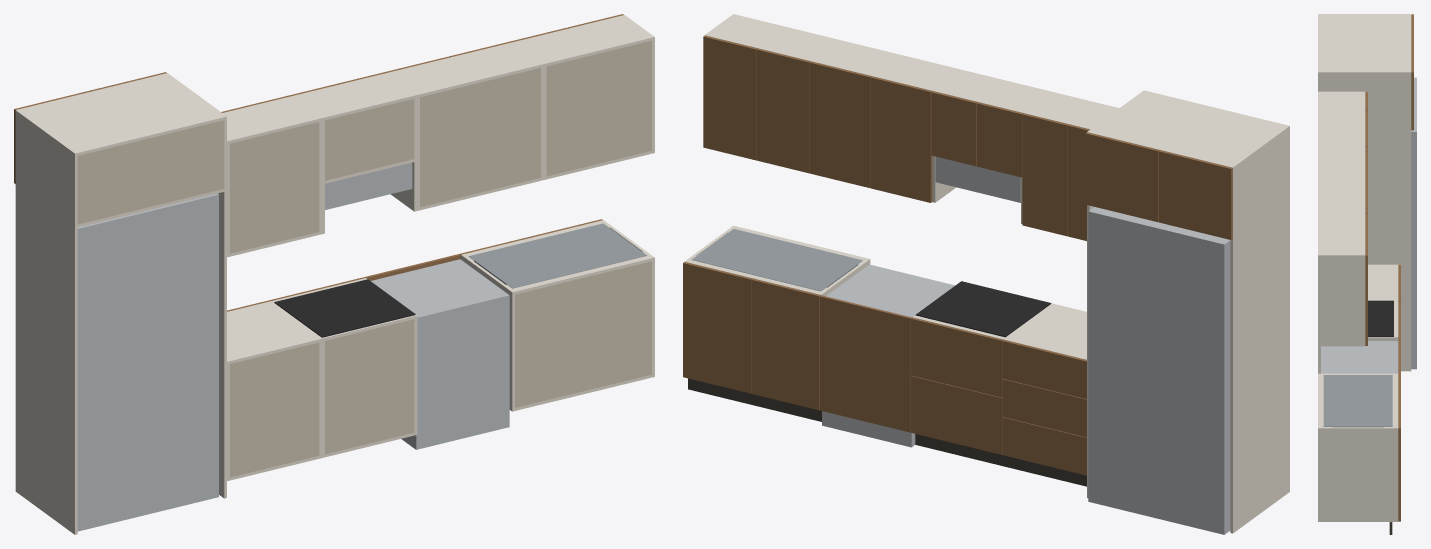
Rendered from 더빌드탑_샘플_주방_2026-11-24.dae.
The picture shows the model from 3 angles, left to right: view 1: azimuth 30°, elevation 25°; view 2: azimuth 150°, elevation 25°; view 3: azimuth 270°, elevation 25°; orthographic projection. The views are drawn at different scales.
Parts seen in each view (by area): view 1: 냉장고장_냉장고(참고)_0x0, 냉장고장_측판(좌)_2300x650, 식기세척기 자리_식기세척기(참고)_0x0, 싱크장_뒷판_864x684, 상부장 C_뒷판_764x664, 상부장 D_뒷판_664x664, 서랍장 A_뒷판_684x564, 인덕션장 3구_뒷판_684x564, 냉장고장_뒷판_924x414, 상부장 B_뒷판_664x564, 냉장고장_천판_924x650, 싱크장_씽크볼(참고)_0x0 (+12 smaller); view 2: 냉장고장_냉장고(참고)_0x0, 냉장고장_측판(좌)_2300x650, 인덕션장 3구_서랍앞판_597x357 (×2), 식기세척기 자리_식기세척기 도어판_717x597, 서랍장 A_서랍앞판_597x237 (×3), 싱크장_문(2)_717x447, 싱크장_문(1)_717x447, 냉장고장_천판_924x650, 상부장 C_문(1)_697x397, 상부장 C_문(2)_697x397, 상부장 D_문(1)_697x347, 상부장 D_문(2)_697x347 (+19 smaller); view 3: 냉장고장_측판(우)_2300x650, 싱크장_측판(우)_720x560, 냉장고장_천판_924x650, 상부장 D_측판(우)_700x330, 싱크장_씽크볼(참고)_0x0, 식기세척기 자리_식기세척기(참고)_0x0, 상부장 C_천판_764x330, 상부장 D_천판_664x330, 상부장 B_천판_564x330, 후드장_천판_564x330, 냉장고장_냉장고(참고)_0x0, 서랍장 A_천판_564x560 (+9 smaller).
Part boxes in pixels (left/top/right/bottom): 냉장고장_냉장고(참고)_0x0: left=77, top=193, right=218, bottom=531; 냉장고장_측판(좌)_2300x650: left=15, top=109, right=77, bottom=534; 식기세척기 자리_식기세척기(참고)_0x0: left=371, top=259, right=509, bottom=449; 싱크장_뒷판_864x684: left=515, top=261, right=651, bottom=407; 상부장 C_뒷판_764x664: left=420, top=68, right=540, bottom=207; 상부장 D_뒷판_664x664: left=546, top=40, right=651, bottom=176; 서랍장 A_뒷판_684x564: left=230, top=342, right=319, bottom=477; 인덕션장 3구_뒷판_684x564: left=325, top=319, right=414, bottom=454; 냉장고장_뒷판_924x414: left=77, top=120, right=224, bottom=224; 상부장 B_뒷판_664x564: left=230, top=122, right=319, bottom=253; 냉장고장_천판_924x650: left=19, top=73, right=224, bottom=155; 싱크장_씽크볼(참고)_0x0: left=469, top=223, right=647, bottom=288; 냉장고장_냉장고(참고)_0x0: left=1088, top=207, right=1230, bottom=534; 냉장고장_측판(좌)_2300x650: left=1230, top=125, right=1289, bottom=533; 인덕션장 3구_서랍앞판_597x357 (×2): left=911, top=317, right=1002, bottom=454; 식기세척기 자리_식기세척기 도어판_717x597: left=820, top=295, right=912, bottom=432; 서랍장 A_서랍앞판_597x237 (×3): left=1002, top=340, right=1086, bottom=475; 싱크장_문(2)_717x447: left=683, top=262, right=752, bottom=393; 싱크장_문(1)_717x447: left=751, top=278, right=820, bottom=410; 냉장고장_천판_924x650: left=1090, top=91, right=1286, bottom=166; 상부장 C_문(1)_697x397: left=870, top=76, right=932, bottom=202; 상부장 C_문(2)_697x397: left=809, top=61, right=871, bottom=187; 상부장 D_문(1)_697x347: left=756, top=48, right=810, bottom=173; 상부장 D_문(2)_697x347: left=703, top=35, right=757, bottom=160; 냉장고장_측판(우)_2300x650: left=1318, top=71, right=1411, bottom=371; 싱크장_측판(우)_720x560: left=1318, top=427, right=1398, bottom=521; 냉장고장_천판_924x650: left=1318, top=15, right=1411, bottom=70; 상부장 D_측판(우)_700x330: left=1318, top=254, right=1365, bottom=346; 싱크장_씽크볼(참고)_0x0: left=1323, top=375, right=1392, bottom=427; 식기세척기 자리_식기세척기(참고)_0x0: left=1321, top=341, right=1398, bottom=373; 상부장 C_천판_764x330: left=1318, top=165, right=1365, bottom=211; 상부장 D_천판_664x330: left=1318, top=214, right=1365, bottom=254; 상부장 B_천판_564x330: left=1318, top=92, right=1365, bottom=126; 후드장_천판_564x330: left=1318, top=129, right=1365, bottom=163; 냉장고장_냉장고(참고)_0x0: left=1411, top=77, right=1416, bottom=369; 서랍장 A_천판_564x560: left=1368, top=265, right=1398, bottom=299.
Bounding box in the file's own units: 3660 × 690 × 2300.
